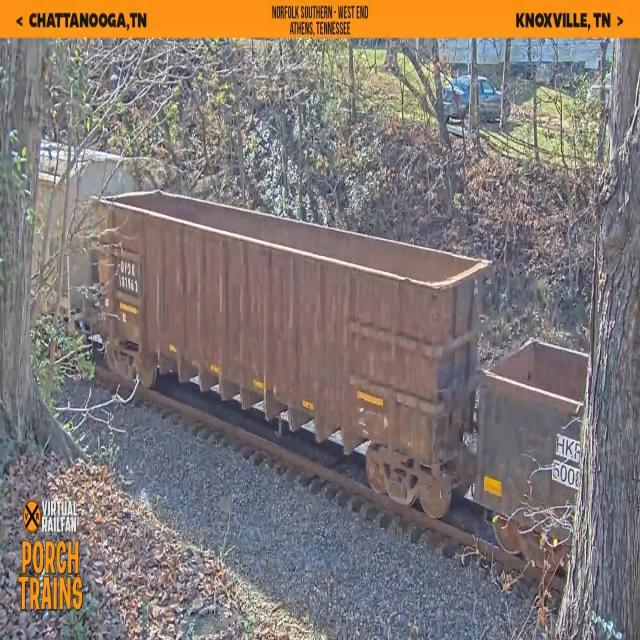gondola: (89, 176, 494, 526)
